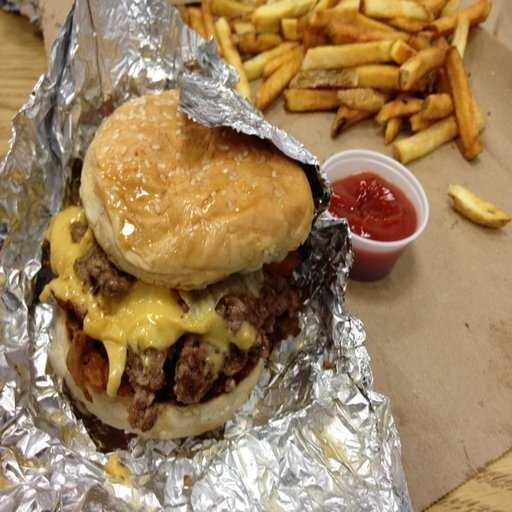hamburger: (18, 77, 330, 461)
